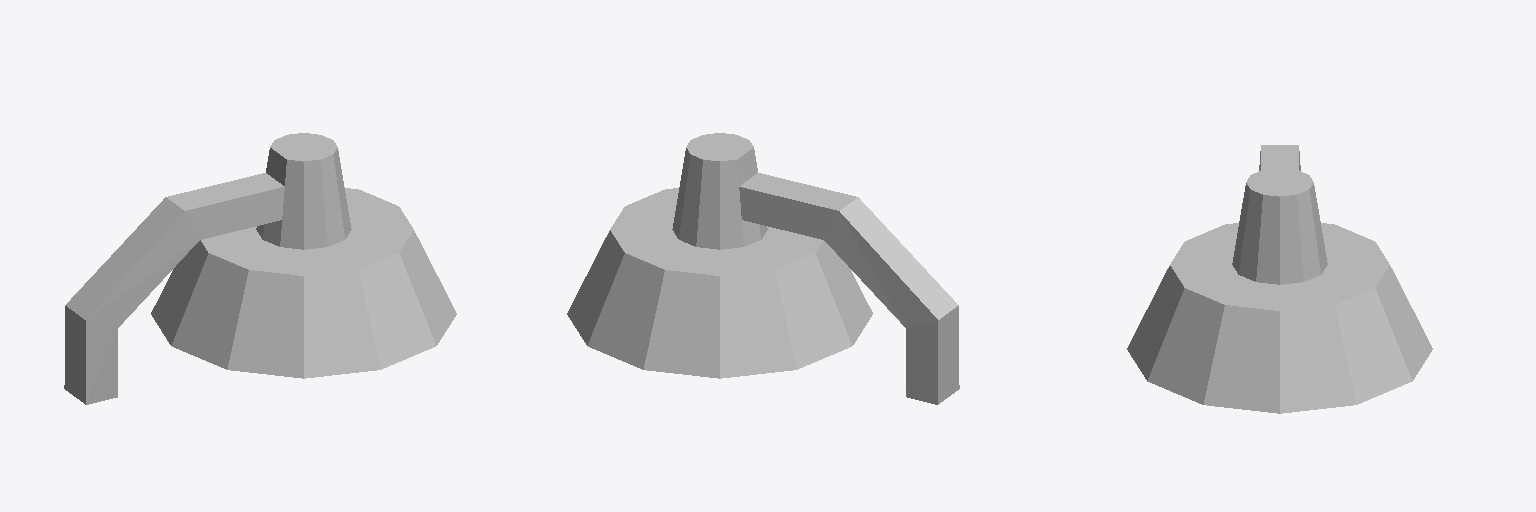
File: Lampenschirm.obj
3 renders of one model, left to right at view 1: azimuth 30°, elevation 25°; view 2: azimuth 150°, elevation 25°; view 3: azimuth 270°, elevation 25°, orthographic.
Visible parts, largest first — view 1: Lampenschirm.009_LampWallHanging.018; view 2: Lampenschirm.009_LampWallHanging.018; view 3: Lampenschirm.009_LampWallHanging.018.
Boxes of the visible parts, x1,y1,x2,y2 form: Lampenschirm.009_LampWallHanging.018: [64, 133, 456, 404]; Lampenschirm.009_LampWallHanging.018: [567, 133, 959, 404]; Lampenschirm.009_LampWallHanging.018: [1127, 145, 1432, 413].
Size of the model in its own units: 0.5229 by 0.2685 by 0.3842.